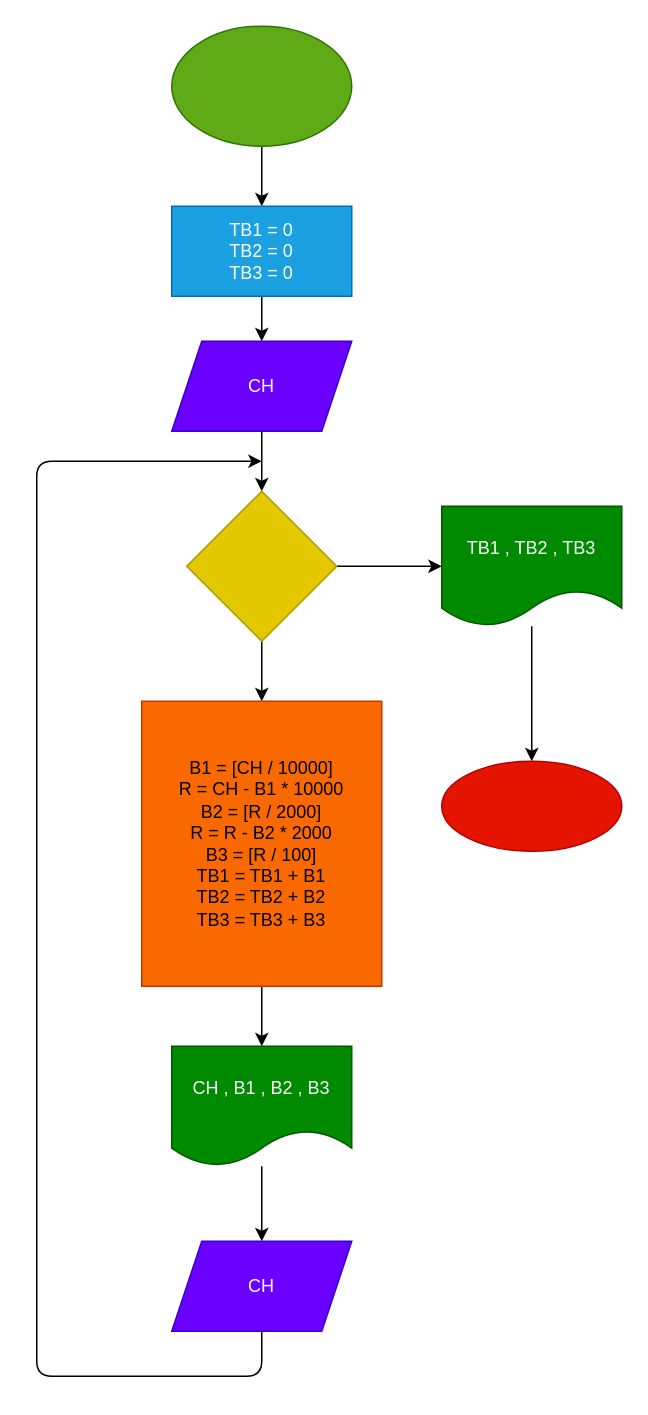
Some shapes in this 648 by 1415 pixel diagram are drawn without their labels. Each missing label, with the box of its shape:
CH != 0: (185, 490, 337, 641)
FIN: (440, 760, 622, 851)
INICIO: (170, 25, 352, 146)
